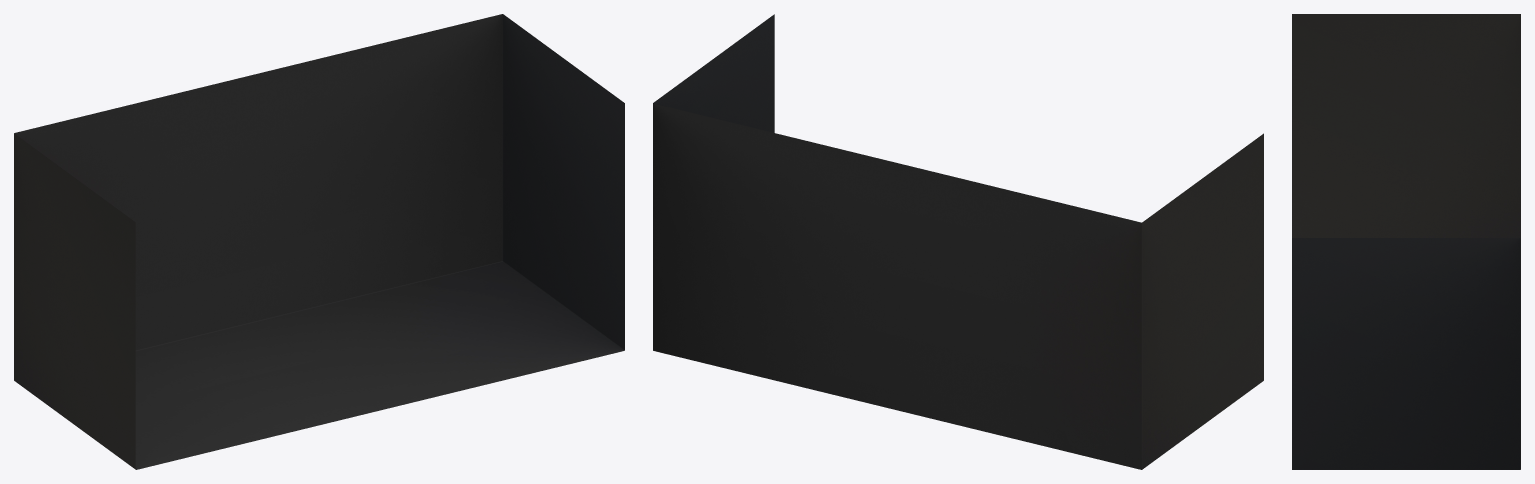
Rendered from wallModel3.glb.
3 views of the same model, side by side, from view 1: azimuth 30°, elevation 25°; view 2: azimuth 150°, elevation 25°; view 3: azimuth 270°, elevation 25° (orthographic). The views are drawn at different scales.
Visible parts, largest first — view 1: 1; view 2: 1; view 3: 1.
Boxes of the visible parts, x1,y1,x2,y2 form: 1: [14, 14, 624, 469]; 1: [653, 14, 1263, 469]; 1: [1292, 14, 1520, 469].
Size of the model in its own units: 12.46 by 6.03 by 5.39.
1 material, 1 textured.
